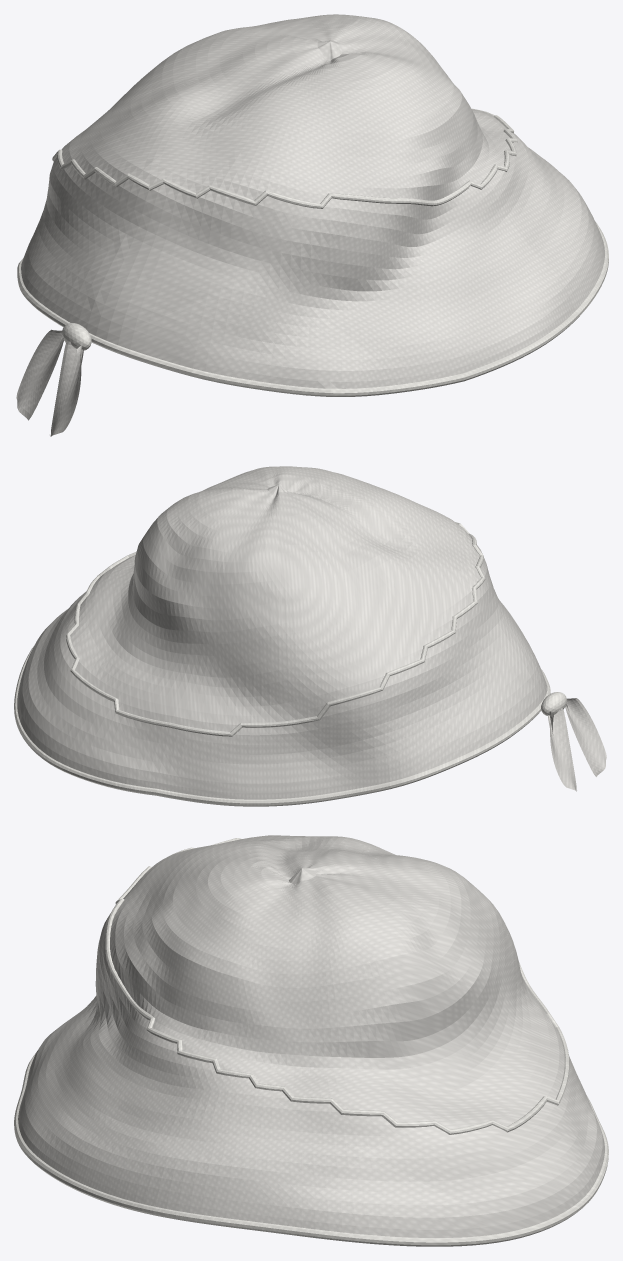
File: side_fishseller_headcloth.glb
3 renders of one model, top to bottom at view 1: azimuth 30°, elevation 25°; view 2: azimuth 150°, elevation 25°; view 3: azimuth 270°, elevation 25°, orthographic. The views are drawn at different scales.
Parts seen in each view (by area): view 1: wash_dyed_linen, sewn_fold; view 2: wash_dyed_linen, sewn_fold; view 3: wash_dyed_linen, sewn_fold.
Boxes of the visible parts, x1=… form: wash_dyed_linen: x1=16, y1=14, x2=604, y2=436; sewn_fold: x1=17, y1=108, x2=608, y2=396; wash_dyed_linen: x1=17, y1=466, x2=606, y2=799; sewn_fold: x1=14, y1=522, x2=566, y2=806; wash_dyed_linen: x1=18, y1=835, x2=604, y2=1237; sewn_fold: x1=14, y1=838, x2=608, y2=1246.
Size of the model in its own units: 15.99 by 7.56 by 13.32.
3 materials, 3 textured.
